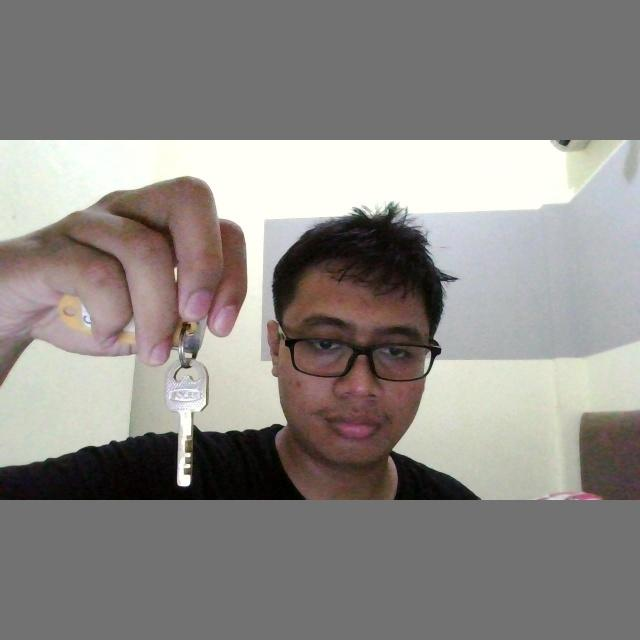Keys: (160, 348, 208, 490)
